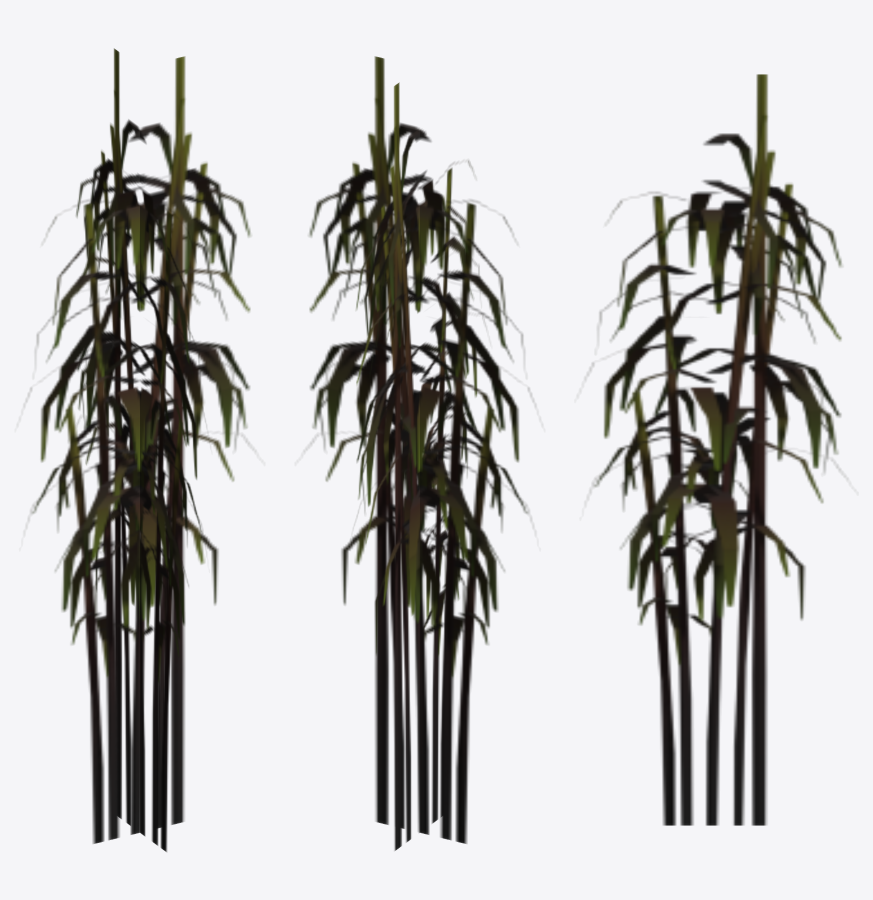
The model's file is bamboo_a_card.glb.
3 renders of one model, left to right at view 1: azimuth 30°, elevation 25°; view 2: azimuth 150°, elevation 25°; view 3: azimuth 270°, elevation 25°, orthographic.
Visible parts, largest first — view 1: bamboo_a_card; view 2: bamboo_a_card; view 3: bamboo_a_card.
Part boxes in pixels (bbox=[...]): bamboo_a_card: bbox=[26, 48, 250, 851]; bamboo_a_card: bbox=[309, 56, 533, 850]; bamboo_a_card: bbox=[590, 74, 841, 825].
Bounding box in the file's own units: 1.67 × 4.87 × 1.67.
1 material, 1 textured.
